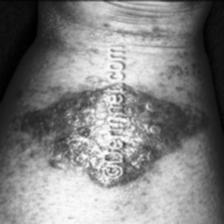Non-Cancerous Skin Condition: (18, 84, 202, 190)
